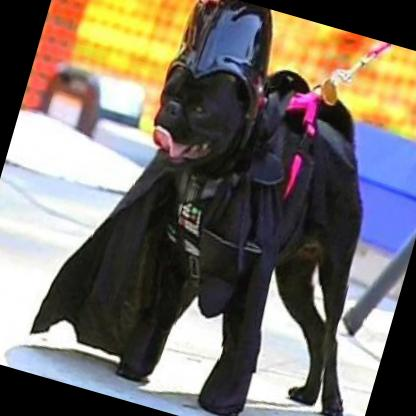pug: (76, 45, 416, 416)
